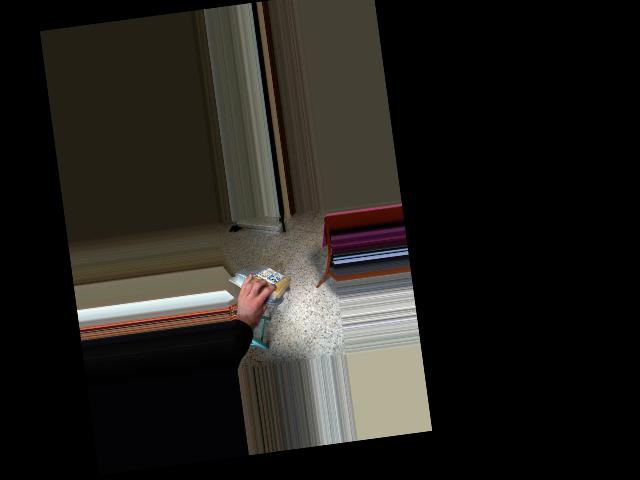cheese: (231, 265, 298, 300)
